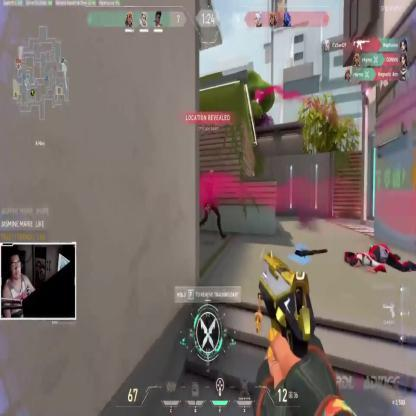enemy: (198, 170, 225, 242)
enemy_head: (209, 168, 214, 182)
